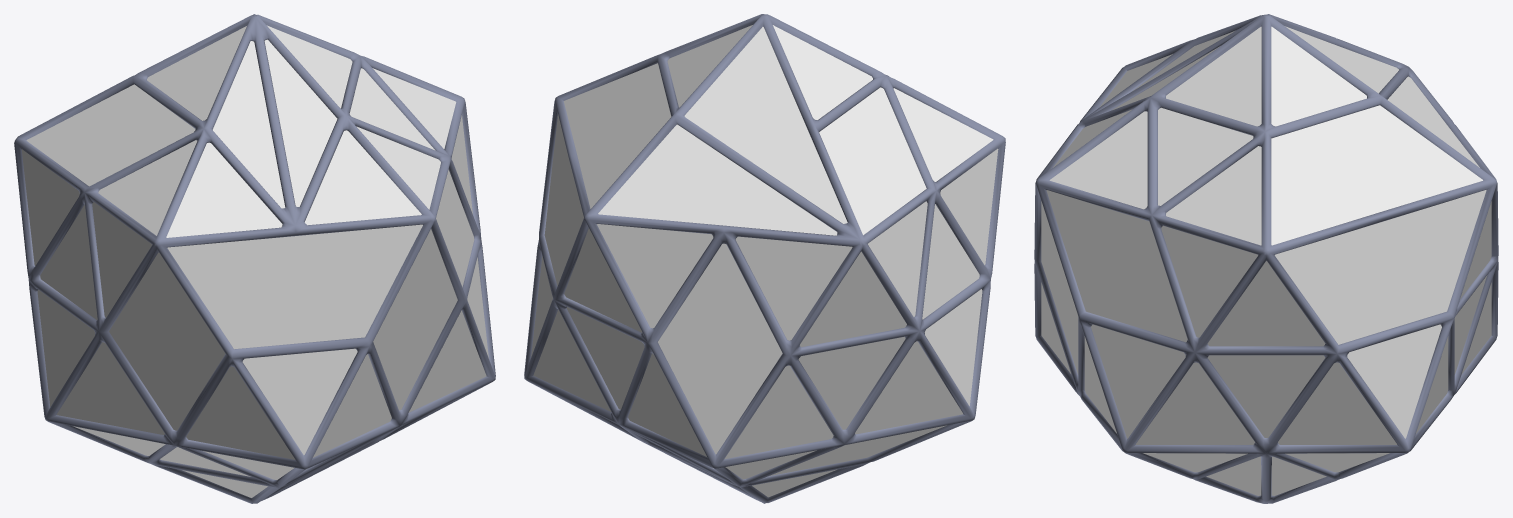
Rendered from ThroneDark.fbx.
3 views of the same model, side by side, from view 1: azimuth 30°, elevation 25°; view 2: azimuth 150°, elevation 25°; view 3: azimuth 270°, elevation 25° (orthographic).
Parts seen in each view (by area): view 1: Icosphere.008, Icosphere.010; view 2: Icosphere.008, Icosphere.010; view 3: Icosphere.008, Icosphere.010.
Boxes of the visible parts, bbox=[...] form: Icosphere.008: bbox=[21, 25, 488, 497]; Icosphere.010: bbox=[14, 14, 495, 503]; Icosphere.008: bbox=[531, 25, 998, 497]; Icosphere.010: bbox=[524, 14, 1005, 503]; Icosphere.008: bbox=[1041, 26, 1491, 495]; Icosphere.010: bbox=[1034, 14, 1498, 503].
Bounding box in the file's own units: 182 × 202 × 174.
